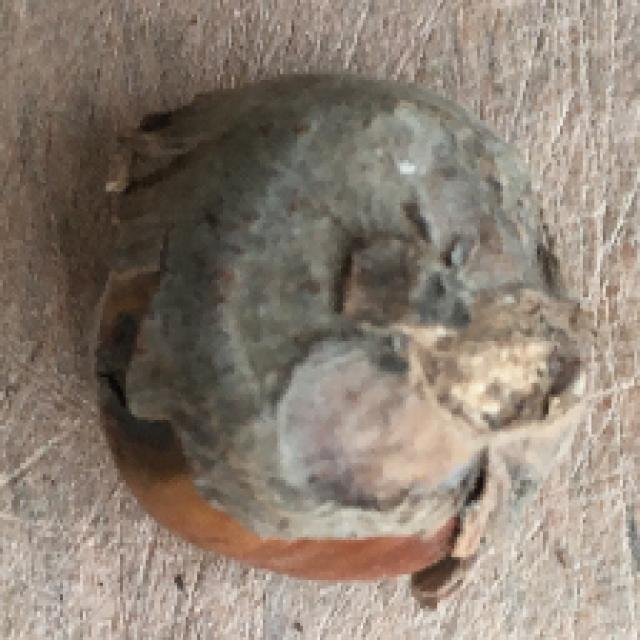damagedHazelnut: (75, 71, 588, 587)
